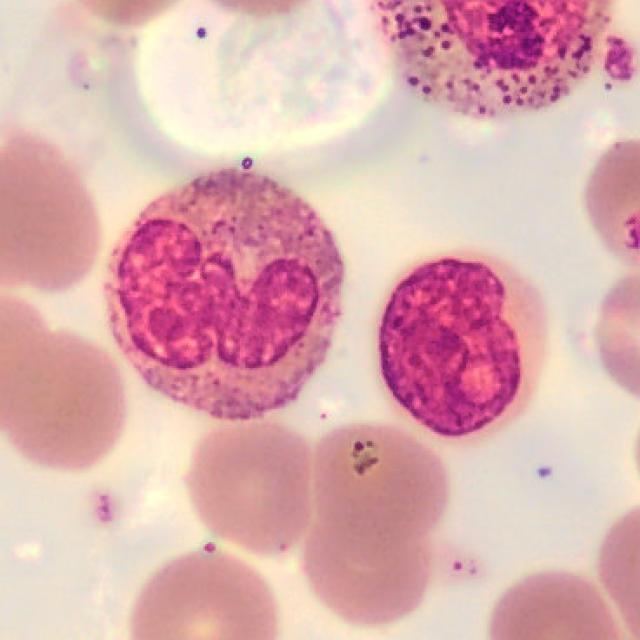Bastonete: (104, 162, 344, 423)
Metamielocito: (379, 256, 546, 439)
